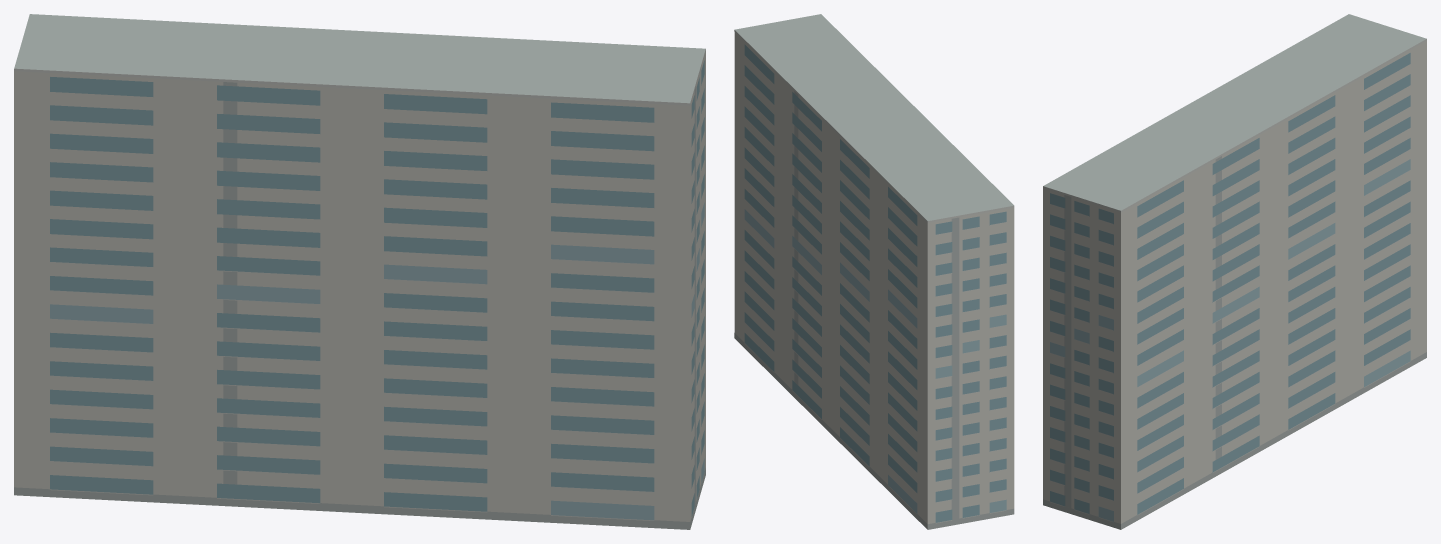
The model's file is residential-ea9e6c28-66a2-4046-9cc7-e4a97beb41f4.glb.
3 renders of one model, left to right at view 1: azimuth 30°, elevation 25°; view 2: azimuth 150°, elevation 25°; view 3: azimuth 270°, elevation 25°, orthographic. The views are drawn at different scales.
Parts seen in each view (by area): view 1: residential-ea9e6c28-66a2-4046-9cc7-e4a97beb41f4.tmp; view 2: residential-ea9e6c28-66a2-4046-9cc7-e4a97beb41f4.tmp; view 3: residential-ea9e6c28-66a2-4046-9cc7-e4a97beb41f4.tmp.
Boxes of the visible parts, x1=… form: residential-ea9e6c28-66a2-4046-9cc7-e4a97beb41f4.tmp: x1=14, y1=14, x2=705, y2=529; residential-ea9e6c28-66a2-4046-9cc7-e4a97beb41f4.tmp: x1=734, y1=14, x2=1014, y2=529; residential-ea9e6c28-66a2-4046-9cc7-e4a97beb41f4.tmp: x1=1043, y1=14, x2=1426, y2=529.
Bounding box in the file's own units: 52.92 × 40 × 43.61.
